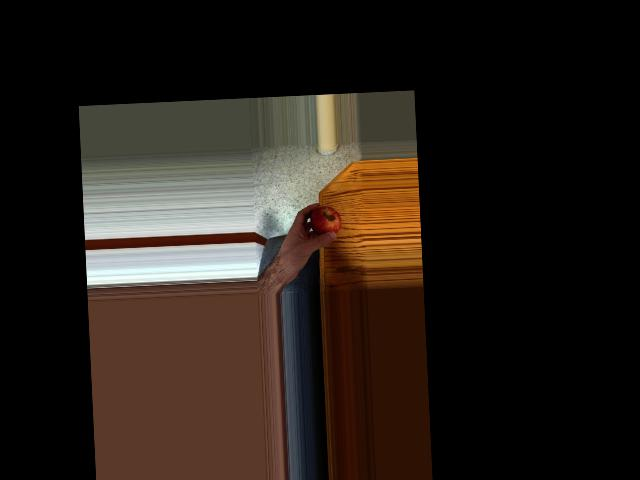apple: (308, 205, 342, 240)
